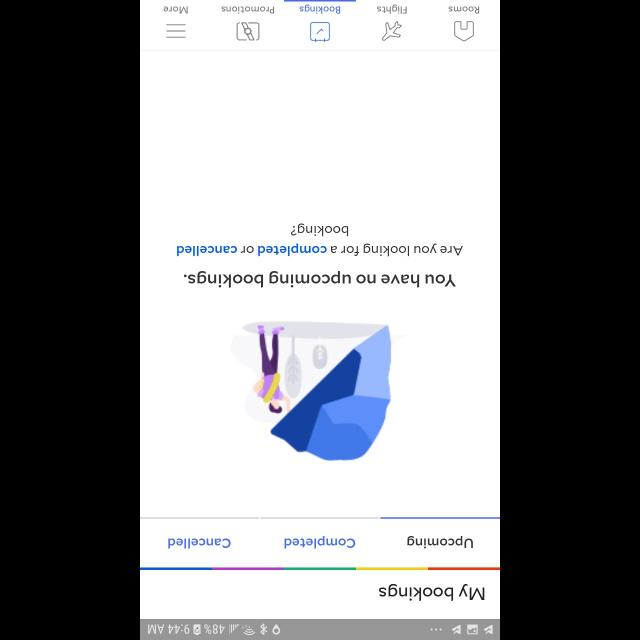icon: (454, 20, 474, 42), (310, 22, 330, 42), (166, 24, 186, 38)
image: (230, 321, 392, 462), (237, 22, 260, 42), (382, 21, 402, 41)
text: (177, 223, 463, 257), (184, 270, 456, 288), (379, 583, 485, 601), (284, 536, 356, 548), (407, 536, 473, 548), (168, 538, 232, 548), (222, 6, 274, 14), (300, 5, 340, 15), (376, 4, 406, 14), (448, 6, 478, 14), (164, 6, 188, 14)
uppertaskbar: (140, 618, 500, 640)
